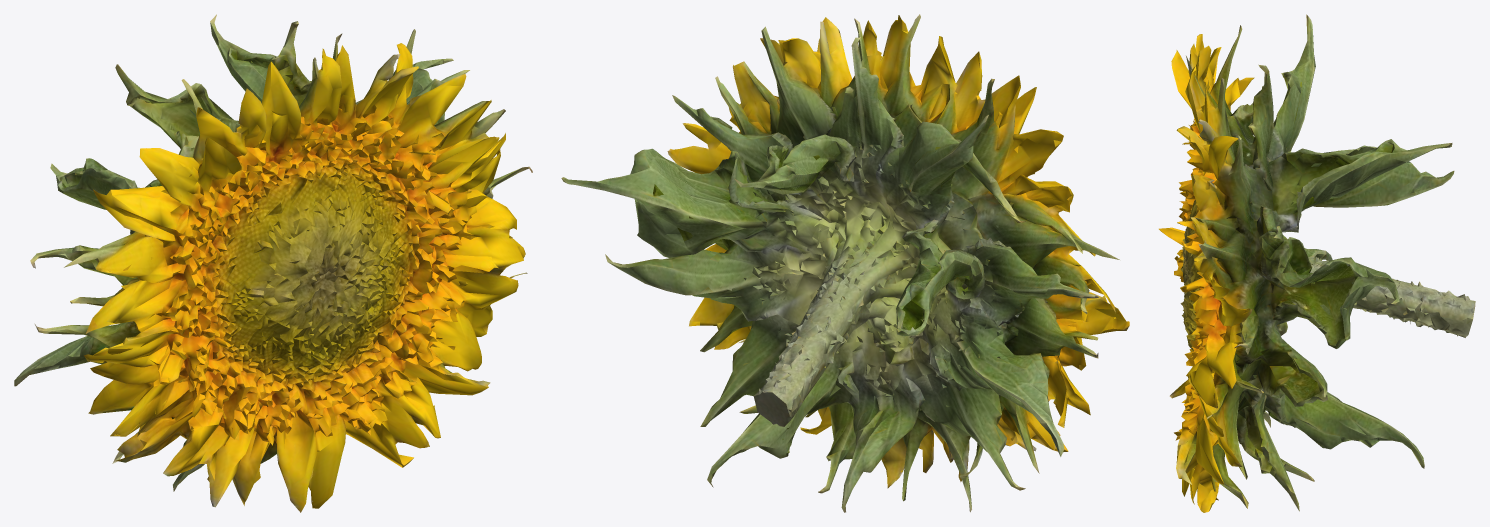
The model's file is sunflower.glb.
The picture shows the model from 3 angles, left to right: view 1: azimuth 30°, elevation 25°; view 2: azimuth 150°, elevation 25°; view 3: azimuth 270°, elevation 25°; orthographic projection. The views are drawn at different scales.
Visible parts, largest first — view 1: Object_2; view 2: Object_2; view 3: Object_2.
Part boxes in pixels (<box>): Object_2: <box>14,14,532,512</box>; Object_2: <box>561,14,1129,512</box>; Object_2: <box>1159,14,1475,512</box>.
Size of the model in its own units: 0.7143 by 0.6665 by 0.4366.
1 material, 1 textured.
